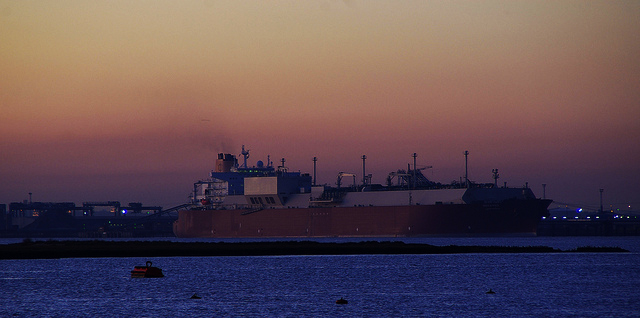LNG_ship: (170, 149, 548, 236)
